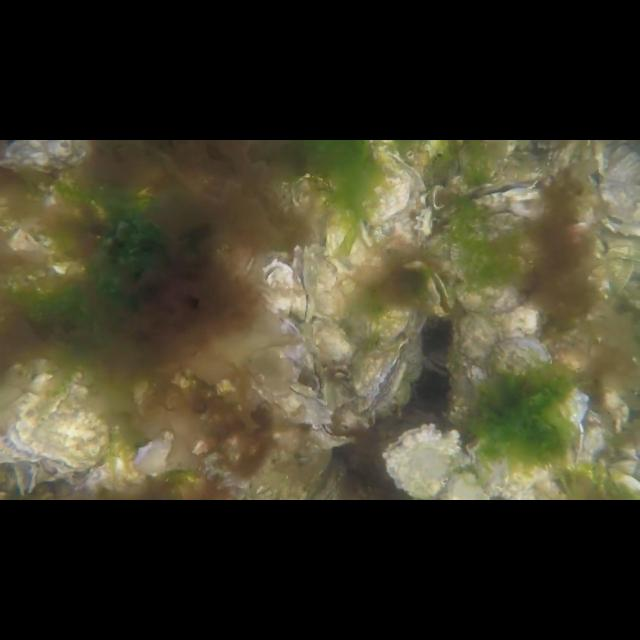Oyster-Closed: (484, 334, 590, 426), (466, 432, 554, 500), (354, 140, 412, 226), (324, 206, 378, 288), (250, 380, 334, 430), (452, 310, 496, 402), (0, 140, 91, 174), (312, 242, 350, 320), (310, 319, 356, 381), (453, 277, 523, 313), (587, 257, 637, 303), (132, 432, 174, 478), (438, 468, 490, 499), (604, 236, 640, 266)
Oyster-Open: (9, 370, 110, 470), (382, 424, 460, 500), (461, 179, 547, 233), (594, 140, 640, 236), (353, 340, 409, 412), (370, 299, 428, 346), (256, 258, 294, 322), (287, 353, 329, 407), (588, 388, 628, 440), (291, 245, 315, 323), (312, 422, 356, 452), (418, 344, 454, 378), (582, 140, 606, 188), (428, 272, 452, 318), (11, 458, 39, 497), (414, 205, 434, 239)
